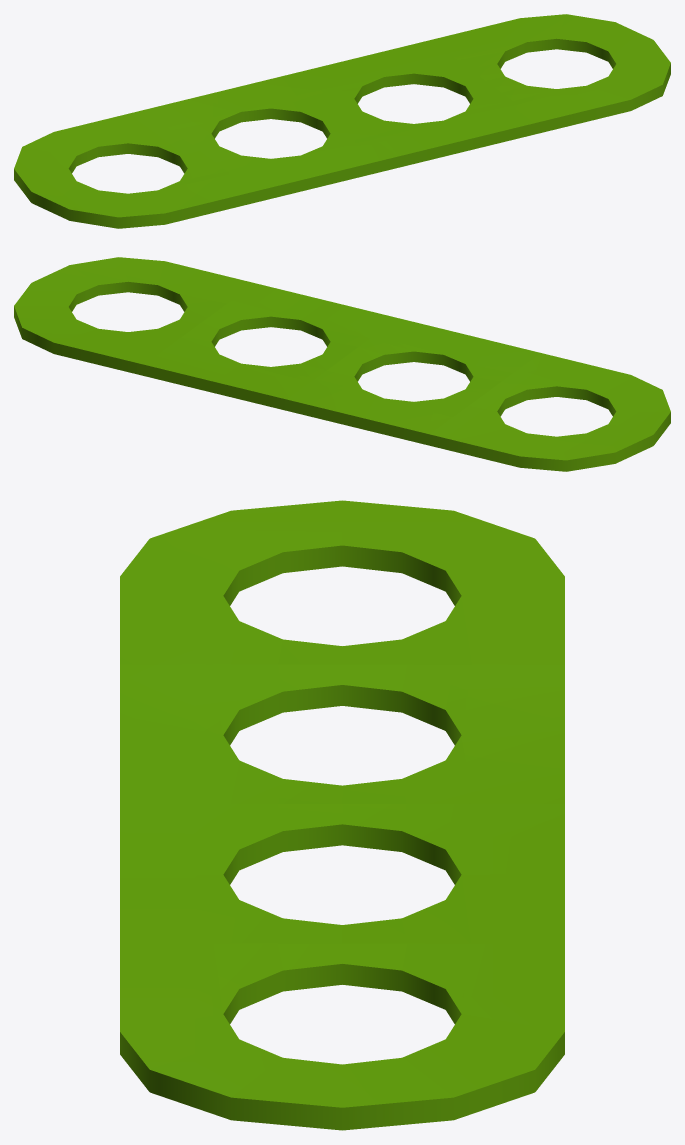
File: FourLongGreen.fbx
3 views of the same model, one above another, from view 1: azimuth 30°, elevation 25°; view 2: azimuth 150°, elevation 25°; view 3: azimuth 270°, elevation 25° (orthographic). The views are drawn at different scales.
Parts seen in each view (by area): view 1: Blue4; view 2: Blue4; view 3: Blue4.
Part boxes in pixels (x1,y1,x2,y2): Blue4: (14, 14, 670, 228); Blue4: (14, 257, 670, 471); Blue4: (120, 500, 564, 1130).
Bounding box in the file's own units: 11.13 × 0.1942 × 3.45.
